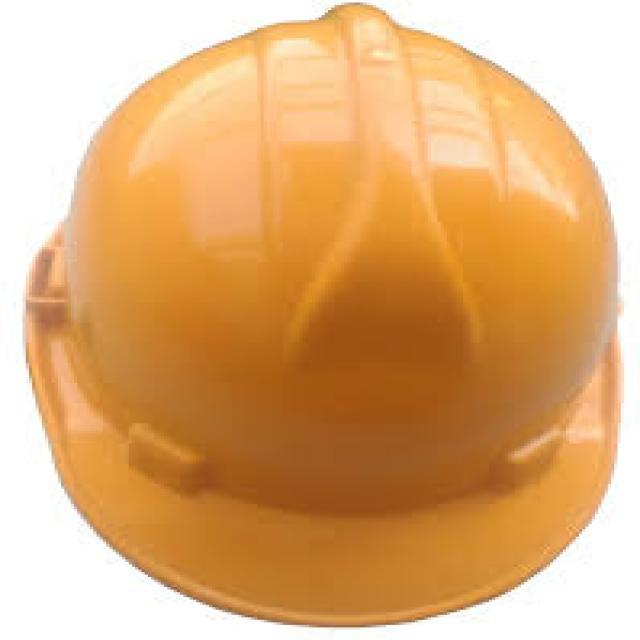helmet: (14, 7, 617, 626)
